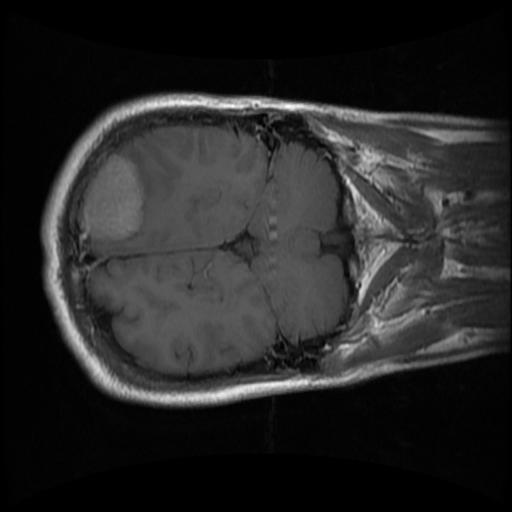meningioma: (78, 153, 142, 245)
